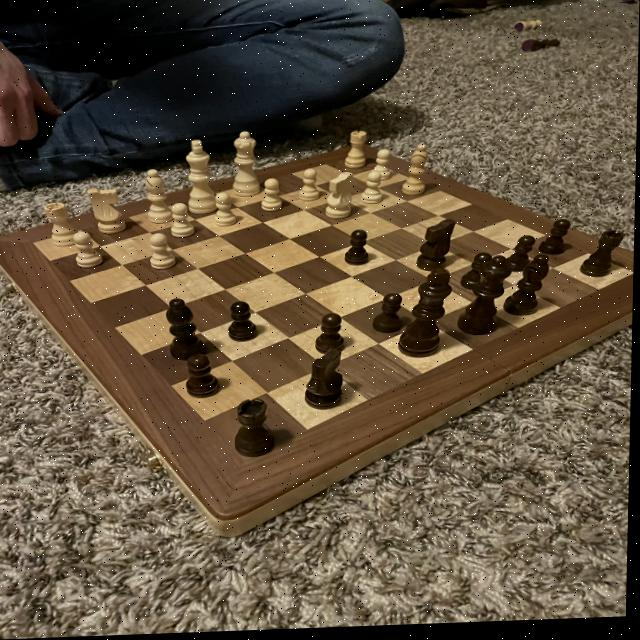bishop: (502, 254, 554, 324), (161, 297, 211, 365)
black-bishop: (395, 268, 457, 363)
black-king: (303, 347, 351, 415), (413, 222, 460, 276)
black-knight: (183, 353, 225, 402), (371, 293, 410, 341), (225, 301, 264, 347), (313, 311, 349, 359), (459, 252, 496, 296), (503, 237, 541, 279), (537, 220, 574, 262), (340, 229, 375, 271)
black-pawn: (457, 256, 519, 342)
black-queen: (231, 400, 280, 462), (579, 231, 629, 285)
black-rook: (140, 168, 176, 227), (398, 142, 432, 201)
white-bishop: (183, 137, 224, 216)
white-king: (85, 186, 130, 238), (324, 172, 358, 226)
white-knight: (145, 231, 183, 273), (71, 230, 108, 273), (211, 191, 243, 231), (168, 201, 199, 241), (259, 178, 287, 216), (366, 148, 394, 186), (359, 172, 386, 209), (297, 170, 322, 205)
white-pawn: (229, 131, 265, 201)
white-queen: (41, 200, 82, 251), (339, 131, 372, 171)
